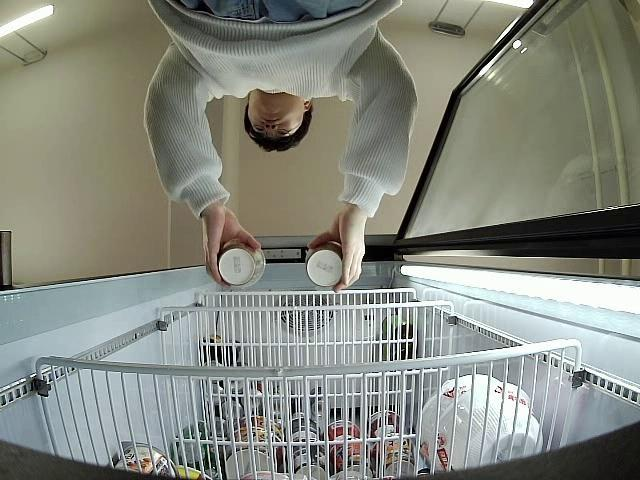04_chapagetti_S: (218, 240, 266, 291), (304, 241, 346, 288)
